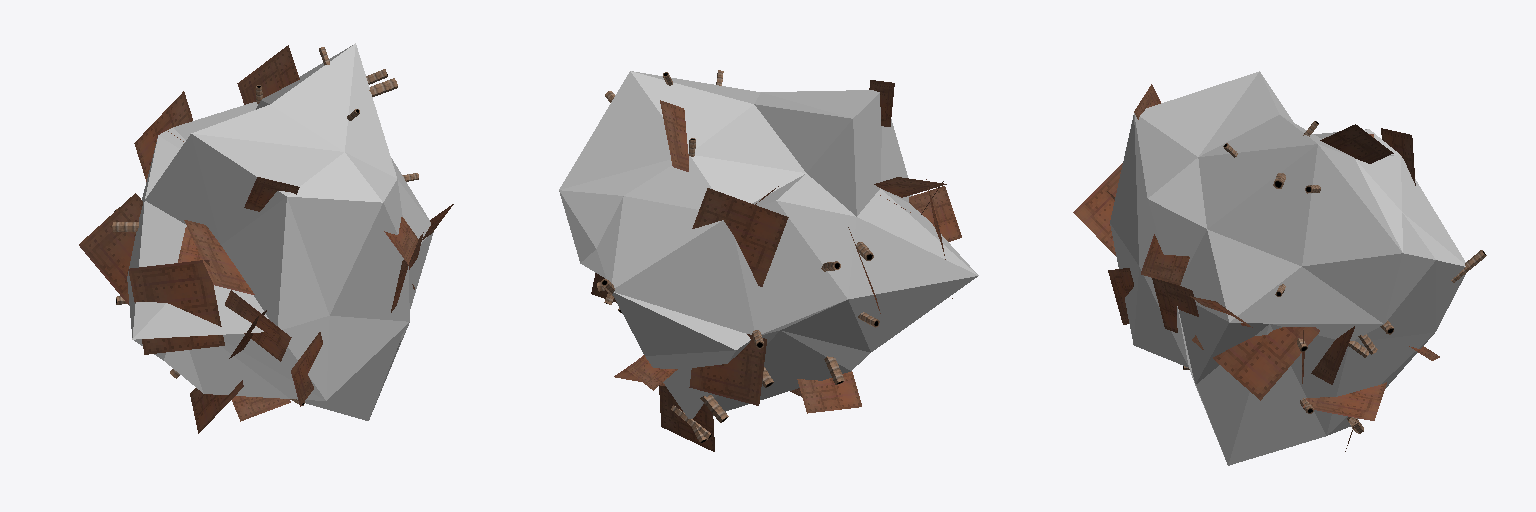
The picture shows the model from 3 angles: view 1: azimuth 30°, elevation 25°; view 2: azimuth 150°, elevation 25°; view 3: azimuth 270°, elevation 25°; orthographic projection.
Parts seen in each view (by area): view 1: Icosphere, Plane, Cylinder; view 2: Icosphere, Plane, Cylinder; view 3: Icosphere, Plane, Cylinder.
Part boxes in pixels (left/top/right/bottom): Icosphere: left=127, top=43, right=433, bottom=420; Plane: left=79, top=45, right=453, bottom=433; Cylinder: left=112, top=47, right=418, bottom=405; Icosphere: left=559, top=71, right=978, bottom=418; Plane: left=591, top=80, right=961, bottom=451; Cylinder: left=597, top=70, right=879, bottom=442; Icosphere: left=1110, top=71, right=1465, bottom=465; Plane: left=1073, top=84, right=1439, bottom=451; Cylinder: left=1183, top=121, right=1486, bottom=433.
Bounding box in the file's own units: 2.45 × 2.47 × 2.62.
4 materials, 3 textured.